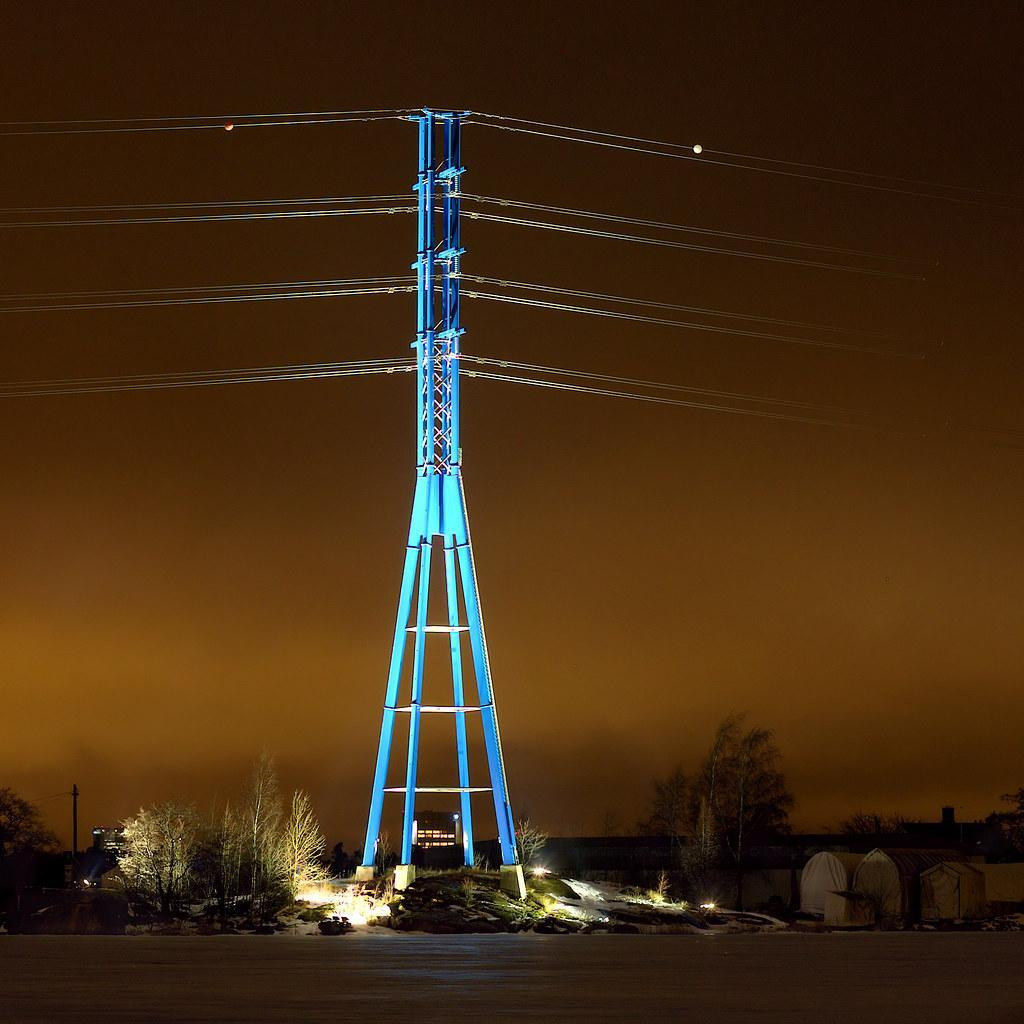power_tower: (348, 108, 528, 867)
